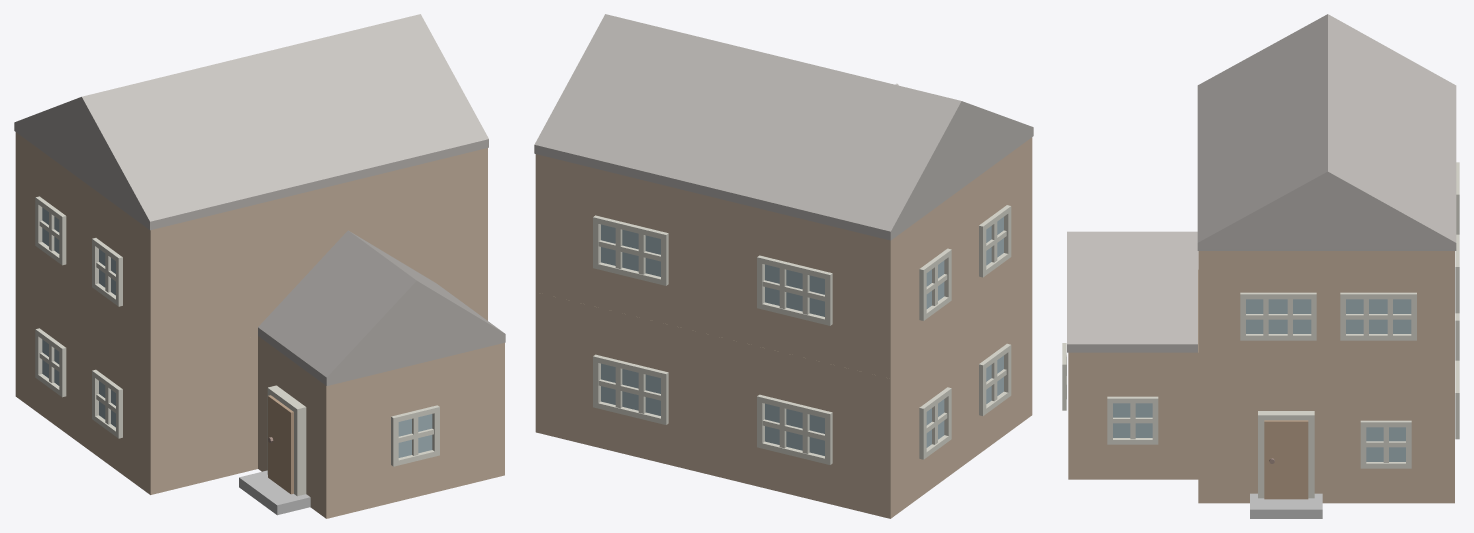
Rendered from house08.fbx.
3 renders of one model, left to right at view 1: azimuth 30°, elevation 25°; view 2: azimuth 150°, elevation 25°; view 3: azimuth 270°, elevation 25°, orthographic. The views are drawn at different scales.
Visible parts, largest first — view 1: roof017, house08, house08_upper, roof016, door5 (×5), doorCentre, step, doorFrame, pPlane1; view 2: roof017, house08, house08_upper, door9 (×4), pPlane2 (×4), door5 (×4), door17 (×4); view 3: roof017, house08, house08_upper, roof016, doorCentre, pPlane2 (×2), door9 (×2), door5 (×2), pPlane1 (×2), doorFrame, step, door17 (×2) (+1 smaller).
Part boxes in pixels (<box>): roof017: <box>14,14,488,230</box>; house08: <box>15,264,504,518</box>; house08_upper: <box>15,132,487,361</box>; roof016: <box>258,230,505,385</box>; door5 (×5): <box>35,196,439,466</box>; doorCentre: <box>268,395,293,494</box>; step: <box>239,470,310,515</box>; doorFrame: <box>267,385,306,496</box>; pPlane1: <box>398,414,432,457</box>; roof017: <box>534,14,1033,240</box>; house08: <box>535,276,1032,518</box>; house08_upper: <box>535,137,1032,378</box>; door9 (×4): <box>593,215,832,464</box>; pPlane2 (×4): <box>601,224,824,455</box>; door5 (×4): <box>919,205,1011,459</box>; door17 (×4): <box>598,228,824,453</box>; roof017: <box>1197,14,1456,250</box>; house08: <box>1068,270,1454,503</box>; house08_upper: <box>1198,251,1454,376</box>; roof016: <box>1067,231,1197,352</box>; doorCentre: <box>1264,420,1308,499</box>; pPlane2 (×2): <box>1246,299,1411,333</box>; door9 (×2): <box>1240,292,1416,340</box>; door5 (×2): <box>1107,396,1411,468</box>; pPlane1 (×2): <box>1113,403,1405,461</box>; doorFrame: <box>1258,411,1314,498</box>; step: <box>1250,493,1322,518</box>; door17 (×2): <box>1246,299,1411,335</box>.
Bounding box in the file's own units: 6.27 × 5.54 × 6.01.
